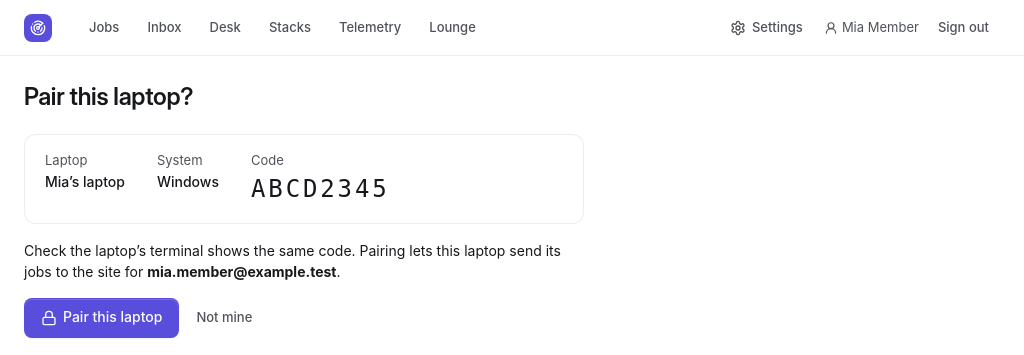
it: the hosted site › Pair this laptop: the laptop’s name, system and code, then one press
The image size is (1024, 355).
Expected: the text "Mia’s laptop" is shown, top-left (45, 170), bottom-right (125, 192)
Expected: the text "Windows" is shown, top-left (157, 170), bottom-right (219, 192)
Click the button "Pair this laptop" at [102, 318], box top-left (24, 298), bottom-right (179, 338)
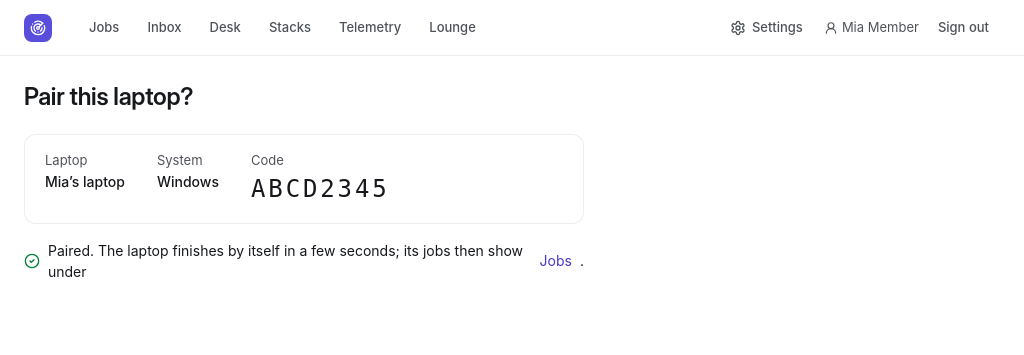
Now the text "Paired. The laptop finishes by itself" is shown, box top-left (48, 242), bottom-right (523, 280)
